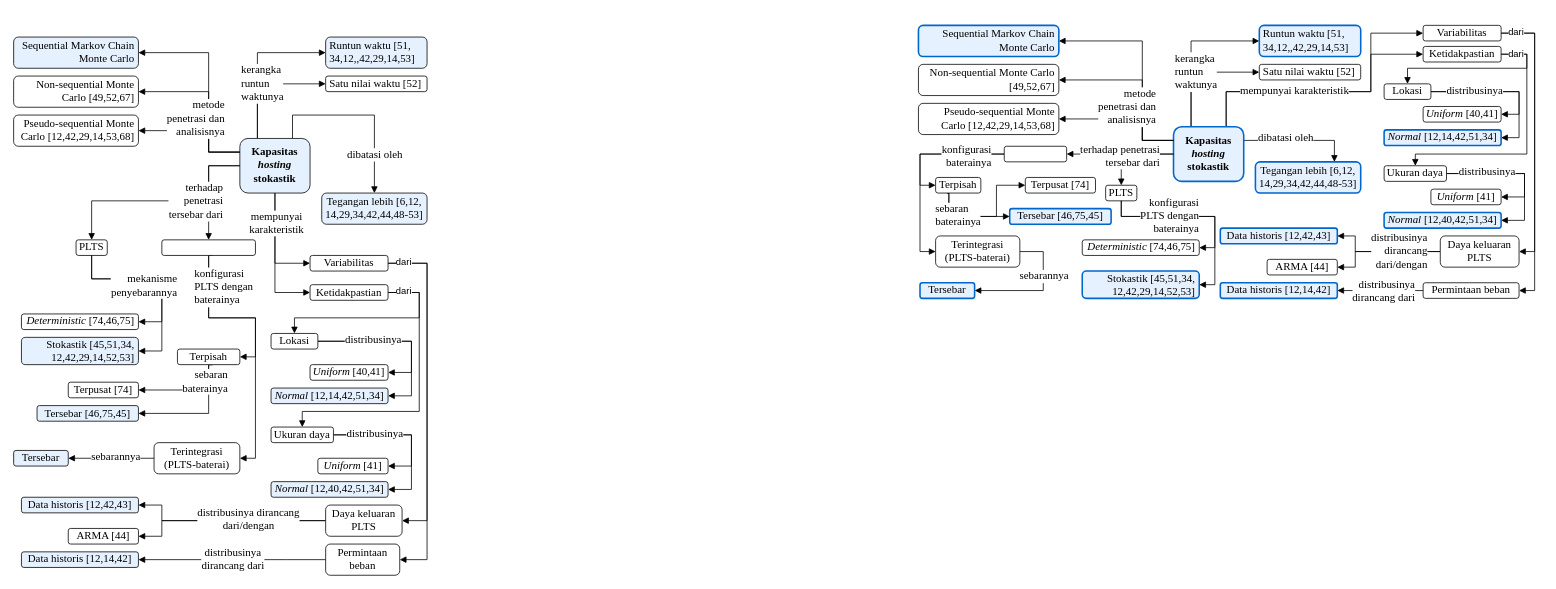
Image size: 1556x589. Some labels were removed from this diagram. The box of each missing label's shape, as (x1, y1, x2, y2) in pixels:
PLTS dan baterai: (161, 239, 255, 255)
PLTS-baterai: (1003, 145, 1067, 162)
